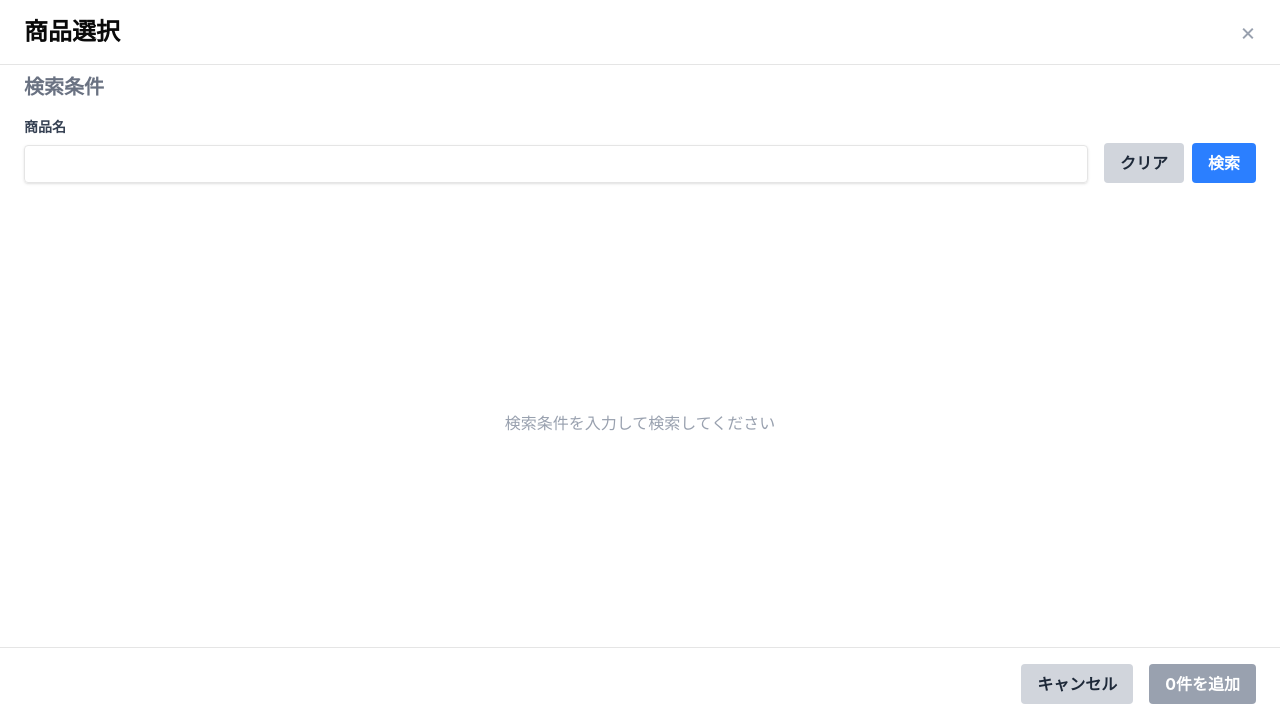
Scenario: SelectionModal の確定拒否 › 新しい検索を実行すると拒否状態（文言・ハイライト）がクリアされる
Click the button "検索".
click(1224, 163)  # box x1=1192 y1=143 x2=1256 y2=183
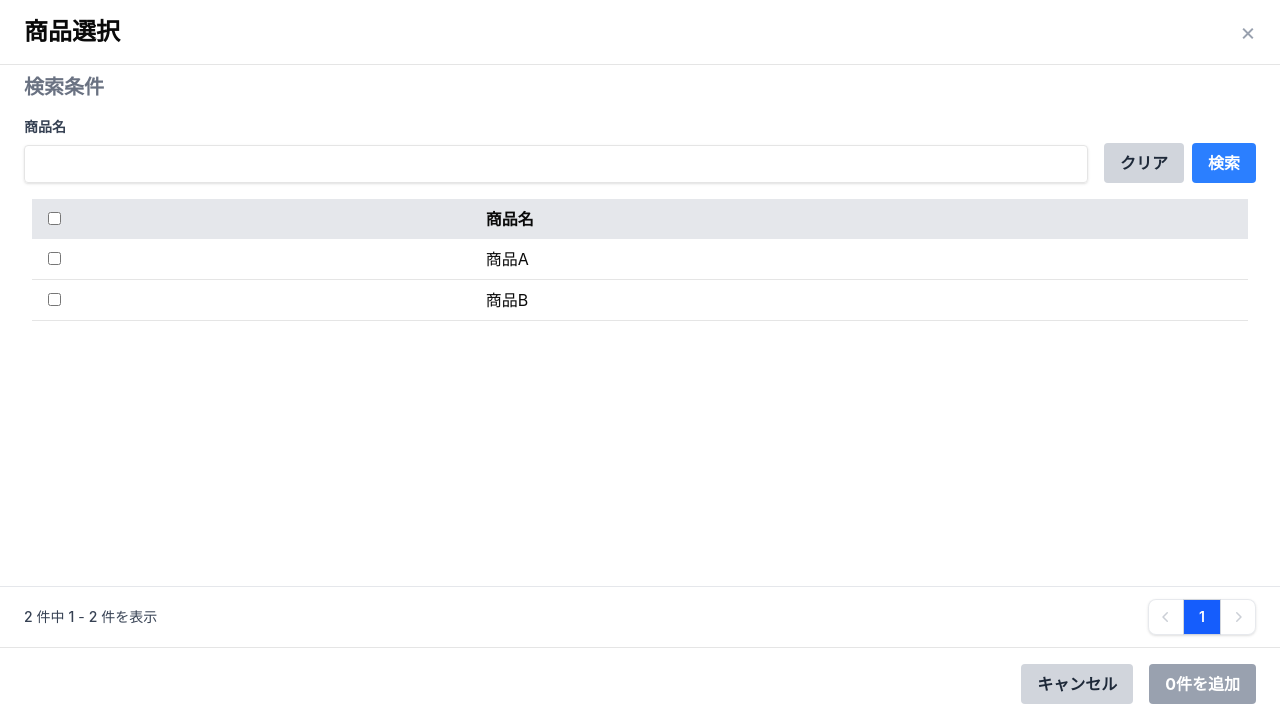
Expected: the text "商品A" is shown, x1=470 y1=239 x2=1248 y2=280
Click the checkbox in the row of "商品A".
click(54, 258)  # box x1=48 y1=252 x2=61 y2=265
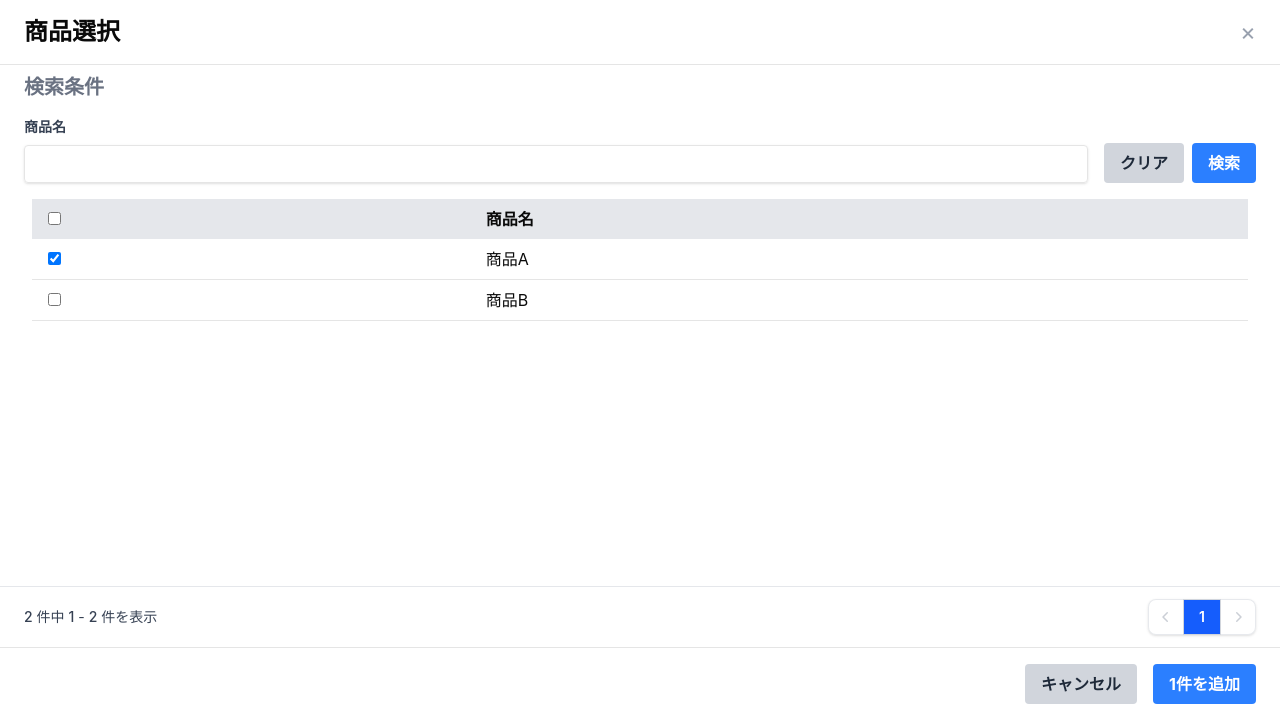
Click the button "1件を追加".
click(1205, 684)  # box x1=1153 y1=664 x2=1256 y2=704
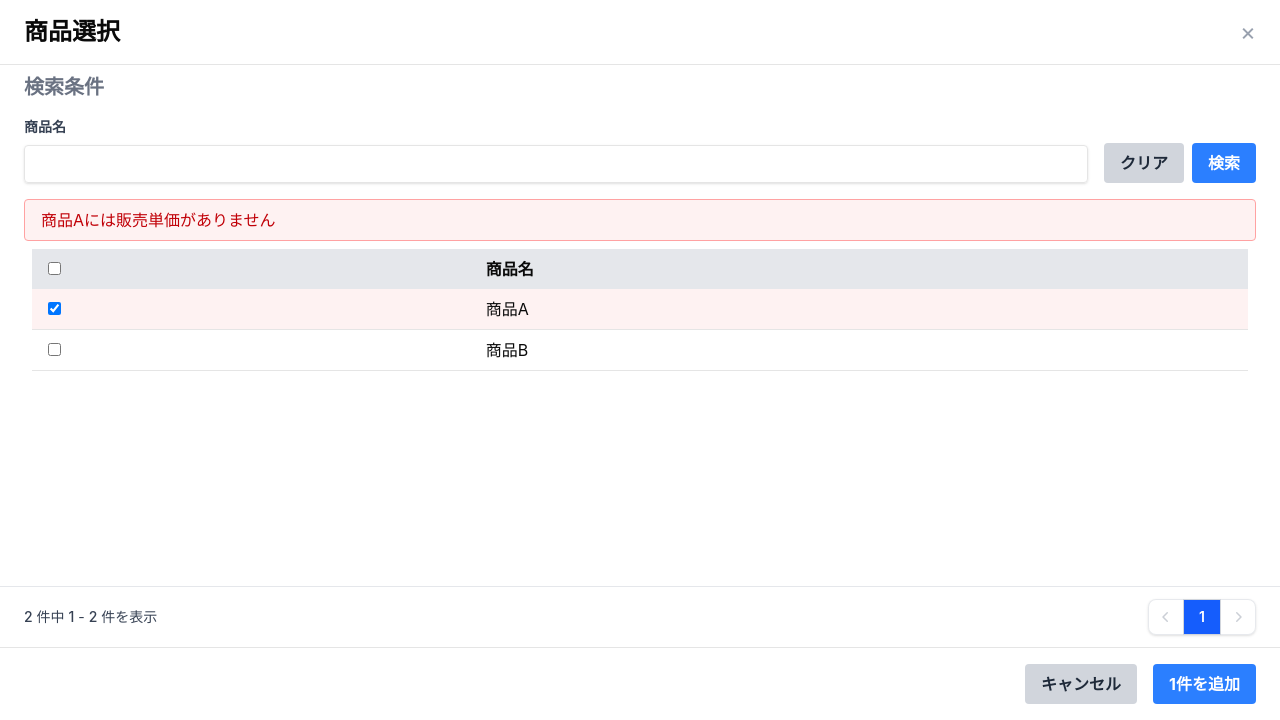
Expected: the message "商品Aには販売単価がありません" is shown, x1=24 y1=199 x2=1256 y2=241
Click the button "検索".
click(1224, 163)  # box x1=1192 y1=143 x2=1256 y2=183
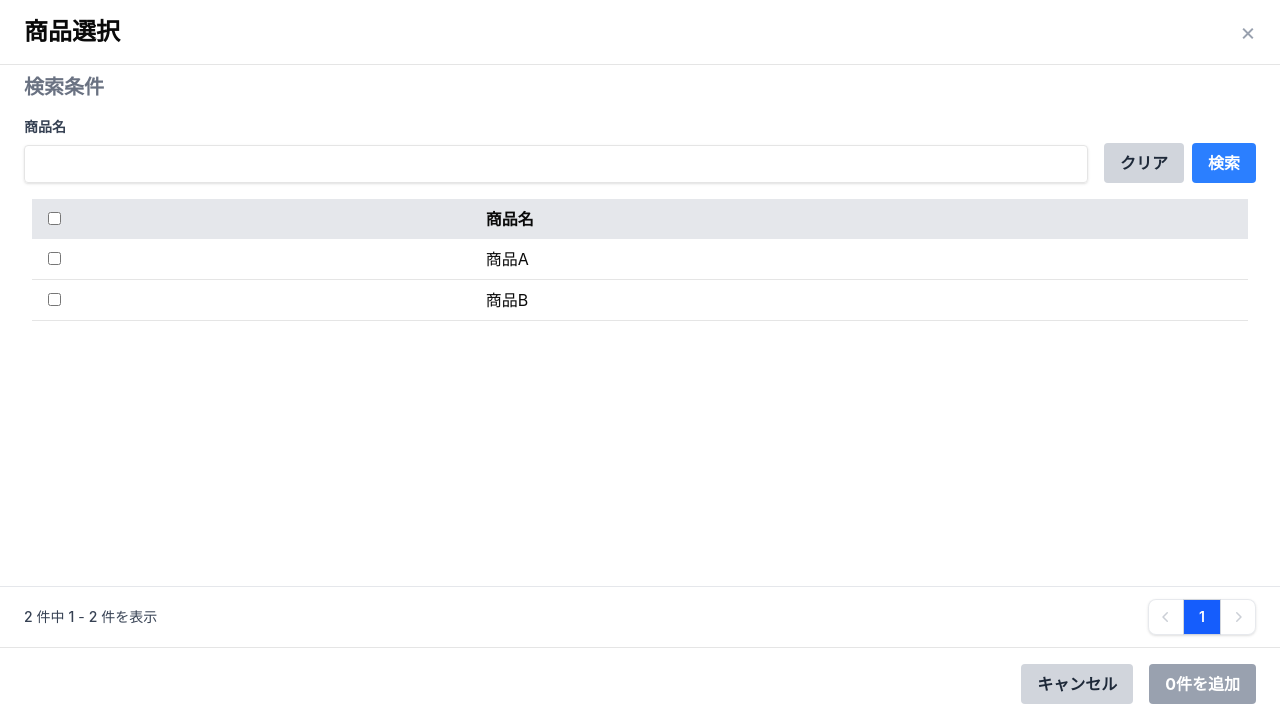
Expected: the text "商品A" is shown, x1=470 y1=239 x2=1248 y2=280
Expected: the message "商品Aには販売単価がありません" is gone
